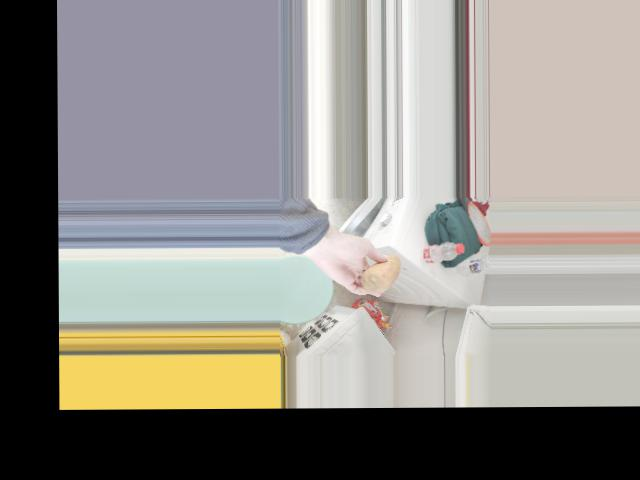sweet_potato: (355, 250, 401, 289)
